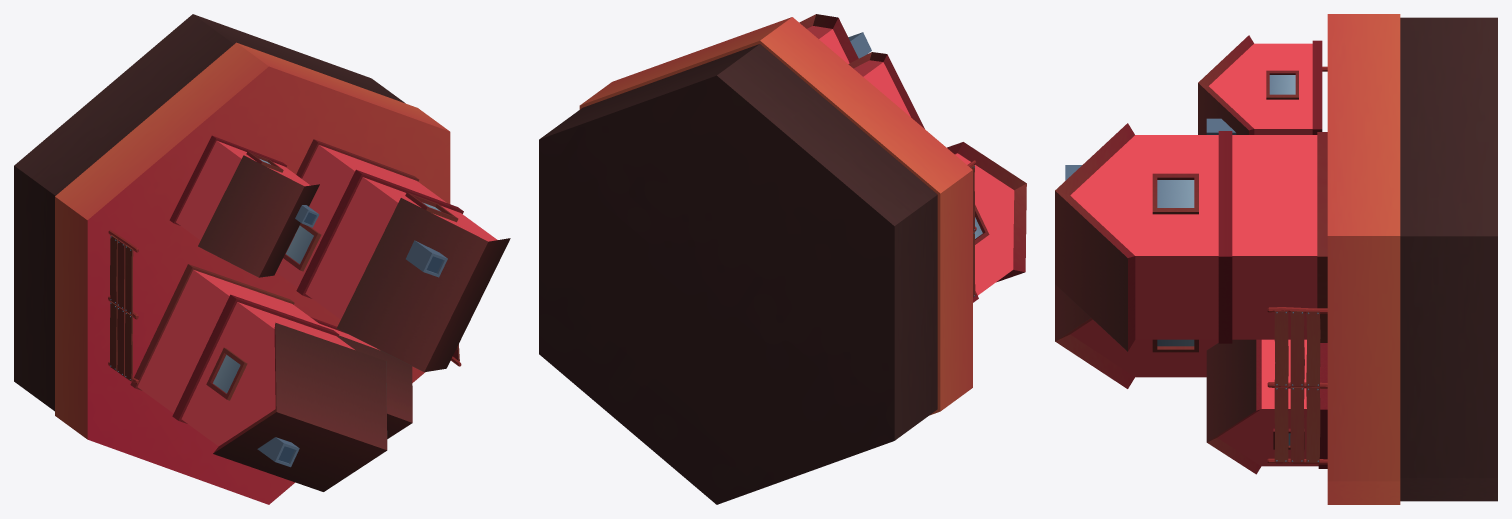
Rendered from Dorf_B_BURN.fbx.
The picture shows the model from 3 angles, left to right: view 1: azimuth 30°, elevation 25°; view 2: azimuth 150°, elevation 25°; view 3: azimuth 270°, elevation 25°; orthographic projection. The views are drawn at different scales.
Parts seen in each view (by area): view 1: Dorf_B_BURN; view 2: Dorf_B_BURN; view 3: Dorf_B_BURN.
Boxes of the visible parts, x1,y1,x2,y2 form: Dorf_B_BURN: [14, 14, 510, 504]; Dorf_B_BURN: [539, 14, 1026, 504]; Dorf_B_BURN: [1055, 14, 1497, 504].
Bounding box in the file's own units: 172 × 199 × 163.
